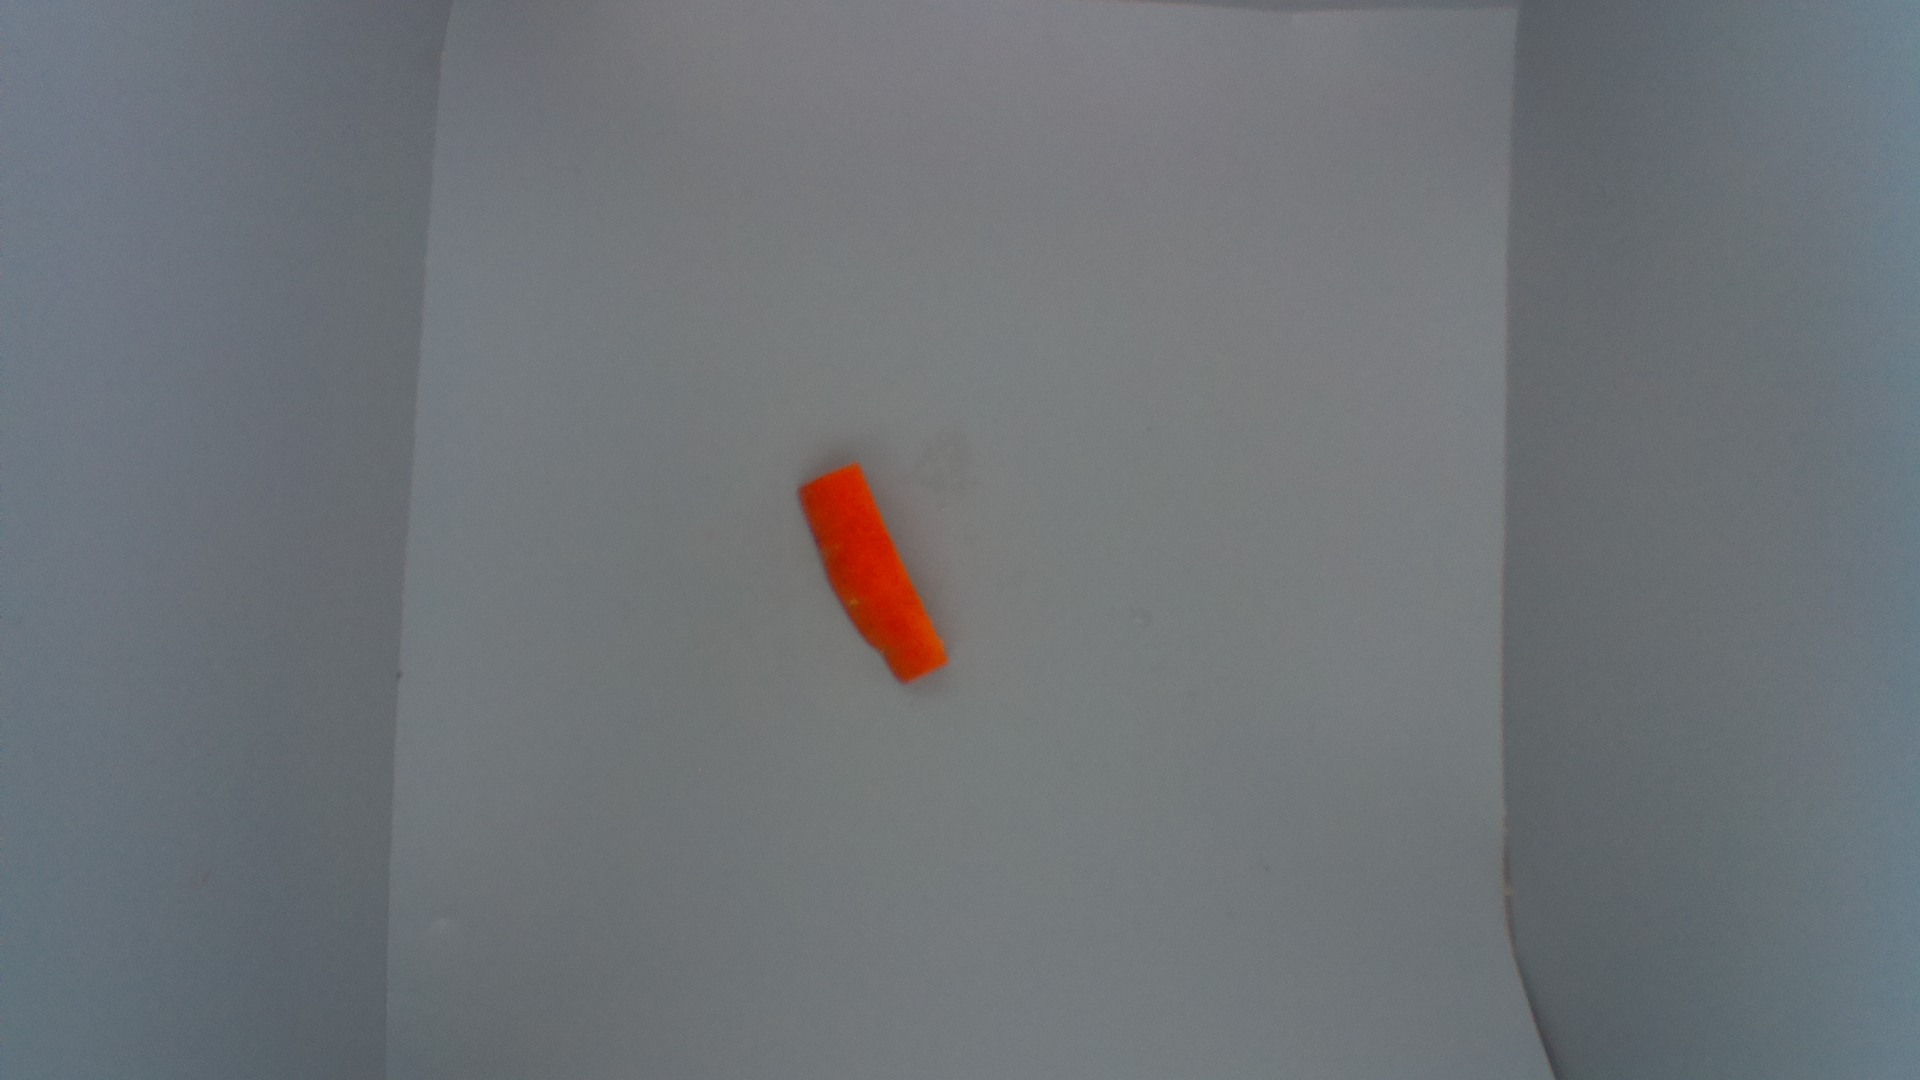carrot: (791, 460, 949, 684)
